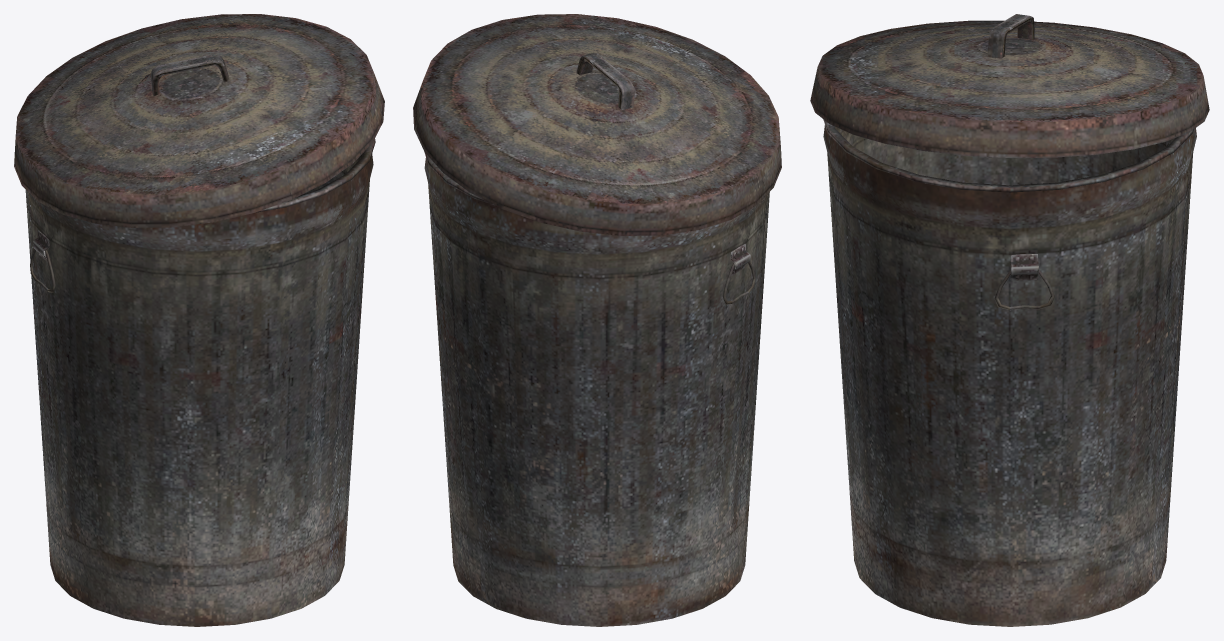
The model's file is 095_TrashBox1.fbx.
The picture shows the model from 3 angles, left to right: view 1: azimuth 30°, elevation 25°; view 2: azimuth 150°, elevation 25°; view 3: azimuth 270°, elevation 25°; orthographic projection. The views are drawn at different scales.
Parts seen in each view (by area): view 1: LOD_1_Group_1_Sub_1__TrashBoxA01A__MAT; view 2: LOD_1_Group_1_Sub_1__TrashBoxA01A__MAT; view 3: LOD_1_Group_1_Sub_1__TrashBoxA01A__MAT.
Part boxes in pixels (left/top/right/bottom): LOD_1_Group_1_Sub_1__TrashBoxA01A__MAT: left=14, top=14, right=384, bottom=626; LOD_1_Group_1_Sub_1__TrashBoxA01A__MAT: left=413, top=14, right=781, bottom=626; LOD_1_Group_1_Sub_1__TrashBoxA01A__MAT: left=810, top=14, right=1209, bottom=626.
Bounding box in the file's own units: 0.8313 × 1.26 × 0.8433.
